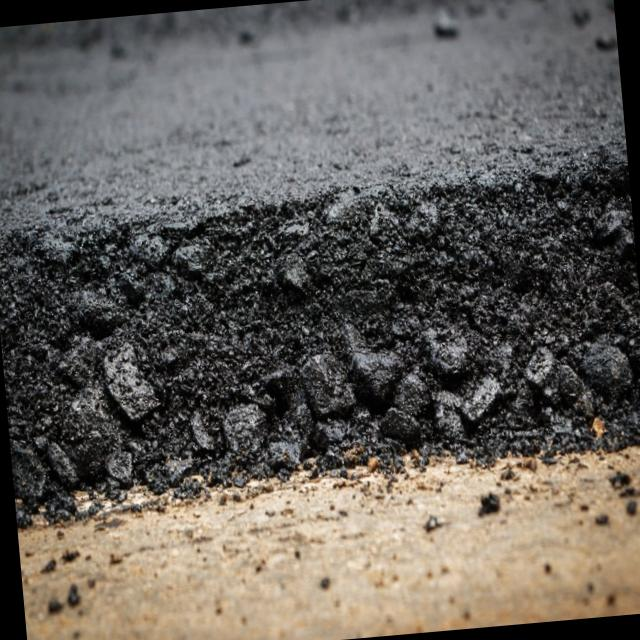asphalt: (0, 0, 640, 506)
white-sand: (17, 447, 640, 640)
